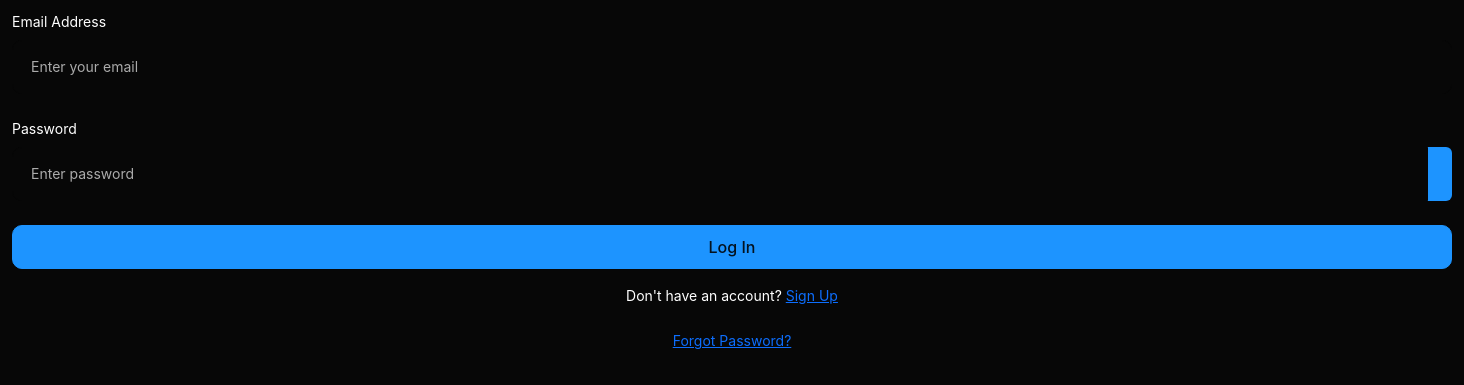
Test: delivery off: the login code is shown, because nothing was mailed
In the field with placeholder "Enter your email": (732, 67) [12,40,1452,94], type "trader@example.com"
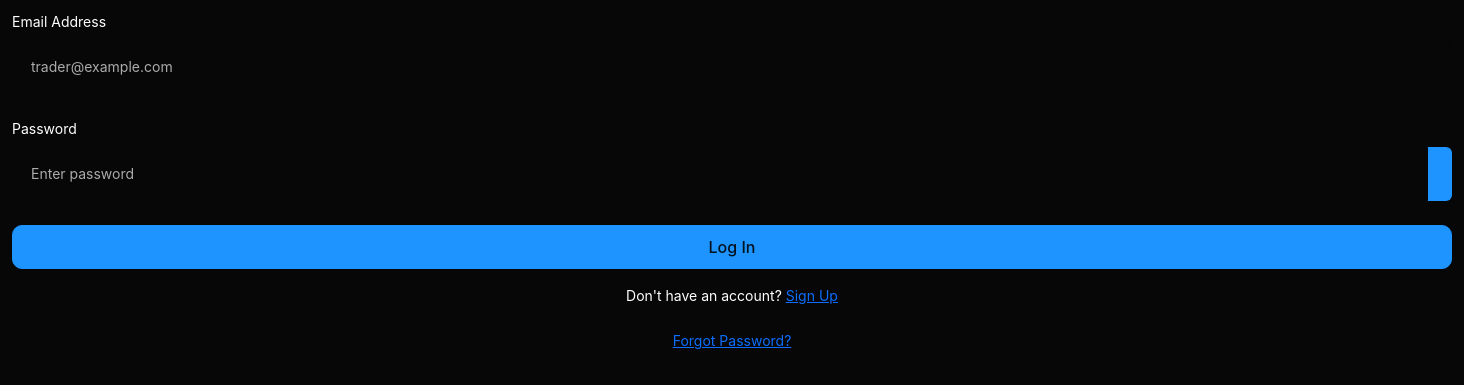
In the password field with placeholder "Enter password": (720, 174) [12,147,1428,201], type "Passw0rd!23"
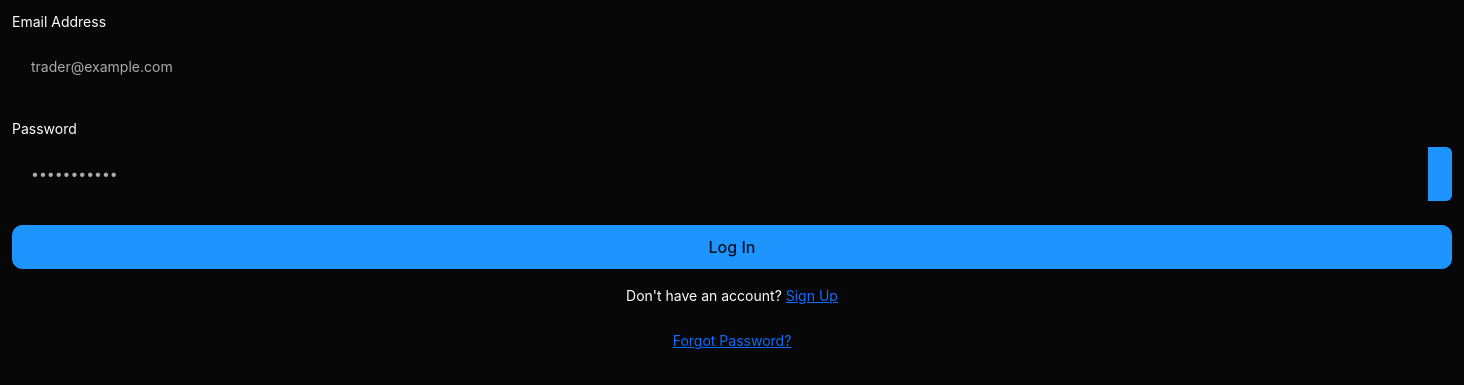
Click the button "Log In": (732, 247) [12,225,1452,269]
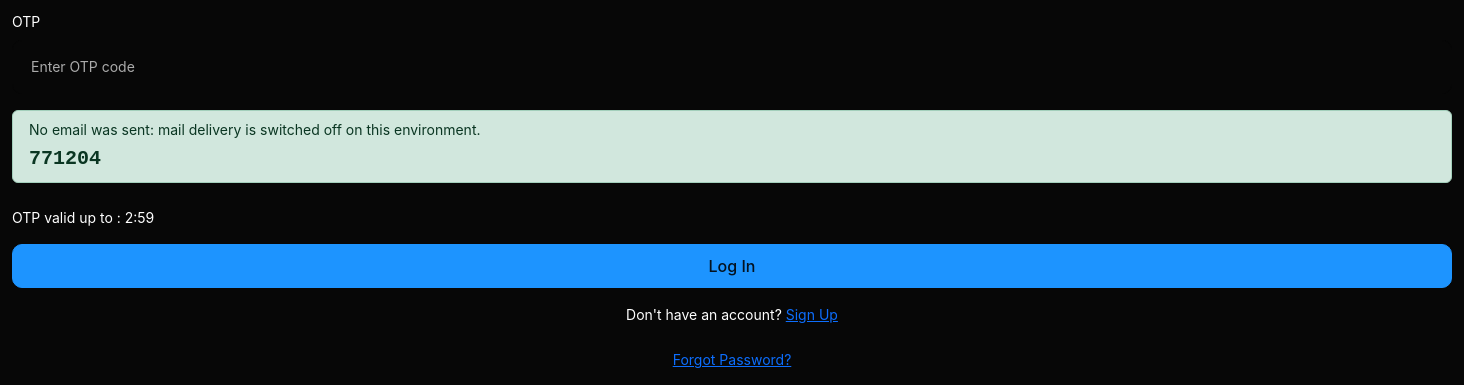
Now the text with test id "login-code" reads "771204", box [29,147,101,170]
Now the message with test id "login-code-notice" shows "No email was sent", box [29,121,480,138]
Now the field with placeholder "Enter OTP code" is shown, box [12,40,1452,94]
